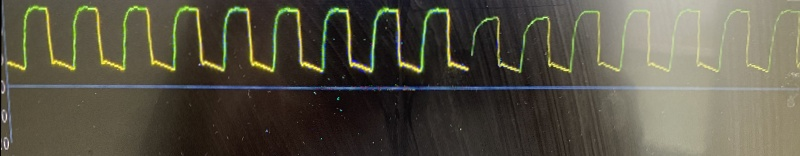normal_pressure: (0, 0, 787, 83)
